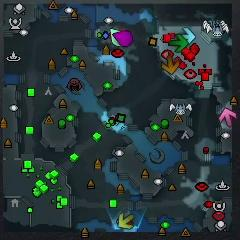p2: (109, 28, 123, 47)
p3: (113, 30, 134, 47)
x1: (219, 108, 237, 128)
x2: (118, 212, 135, 229)
x3: (181, 28, 196, 44)
x4: (170, 34, 189, 52)
x5: (161, 56, 179, 75)
